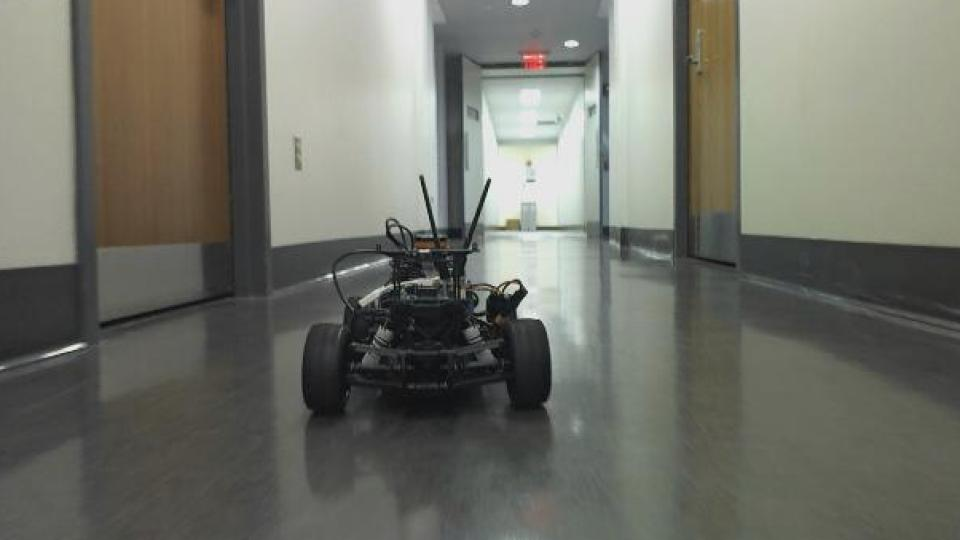car: (298, 173, 557, 418)
